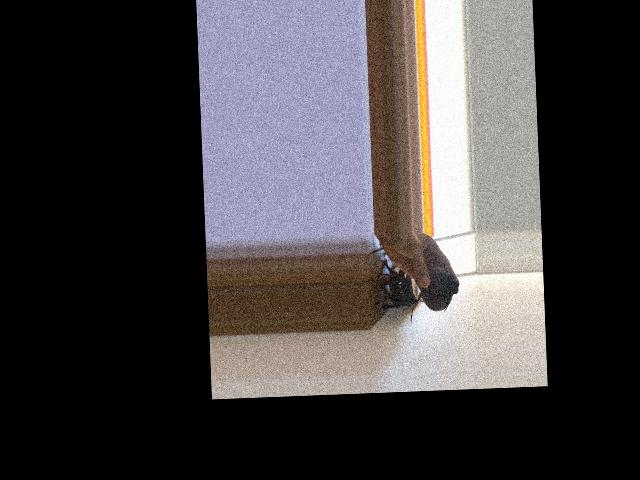beet: (408, 266, 460, 324)
